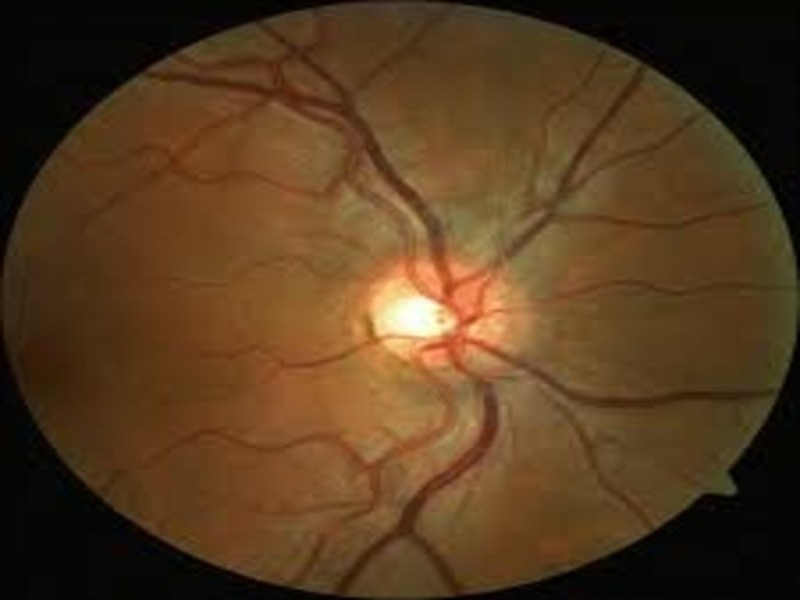Optic Cup: (381, 295, 453, 335)
Optic Disc: (363, 251, 511, 366)
